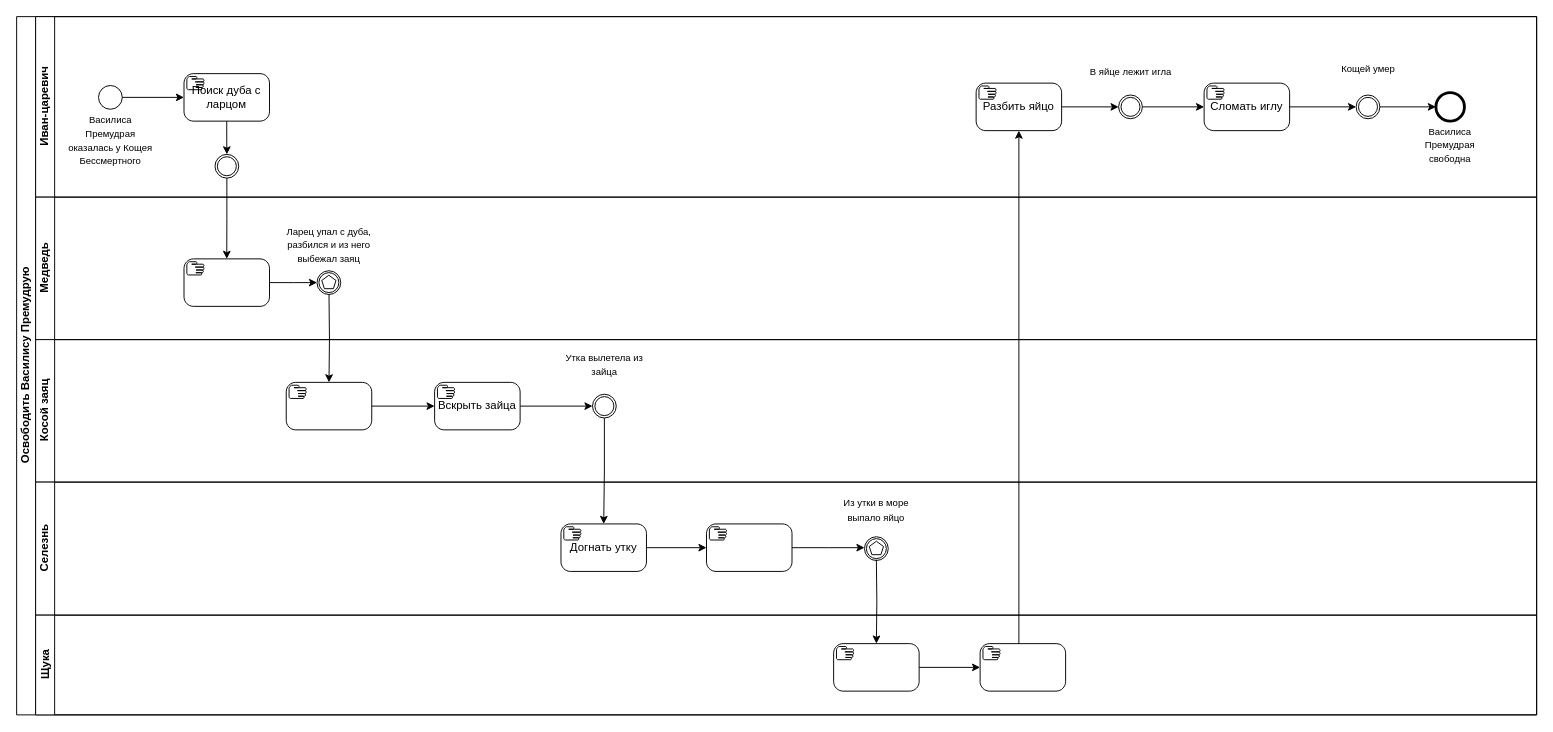
Image size: 1553x732. Some labels were removed from this diagram. The shapes that lost their labels are listed below. From the top down, each one's centre as x and y in pixels, then its label:
(226,282): Повалить дуб
(328,405): Догнать зайца
(749,547): Убить утку
(876,667): Достать яйцо
(1022,667): Отдать яйцо Царевичу
